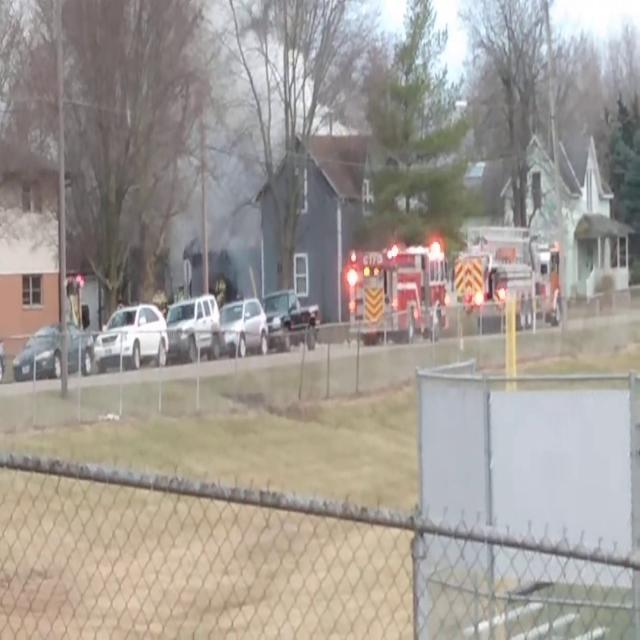Smoke: (170, 36, 272, 276)
